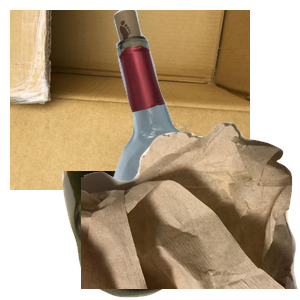cardboard: (10, 10, 250, 190)
glass: (89, 10, 300, 190)
plastic: (60, 171, 300, 300)
trash: (81, 120, 300, 300)
